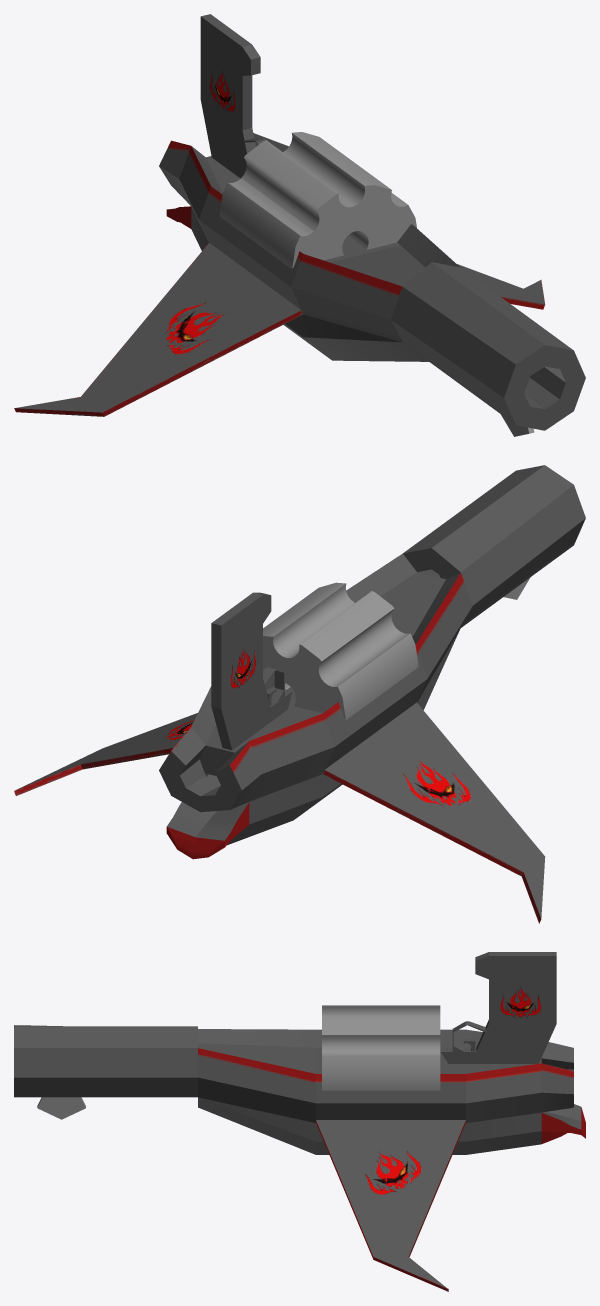
The model's file is matt_spaceship.fbx.
The picture shows the model from 3 angles, top to bottom: view 1: azimuth 30°, elevation 25°; view 2: azimuth 150°, elevation 25°; view 3: azimuth 270°, elevation 25°; orthographic projection. The views are drawn at different scales.
Visible parts, largest first — view 1: pCylinder23; view 2: pCylinder23; view 3: pCylinder23.
Boxes of the visible parts, x1,y1,x2,y2 form: pCylinder23: (14,14,585,436); pCylinder23: (14,465,585,923); pCylinder23: (14,952,585,1291).
Bounding box in the file's own units: 12.86 × 6.66 × 14.87.
